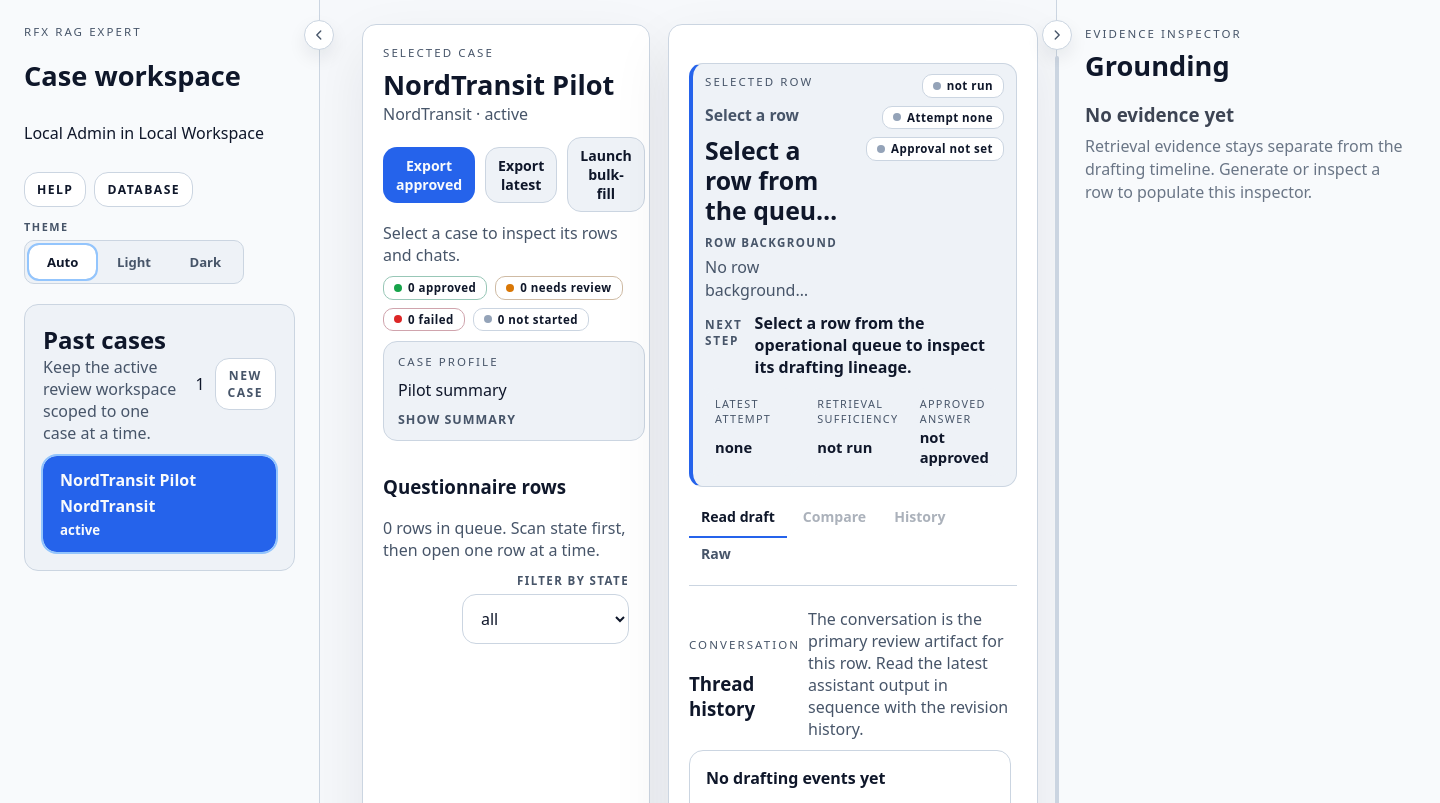
Test: App › keeps draft messaging for latest export
Click the button "Export latest". click: (521, 174)
box: [485,146,557,202]
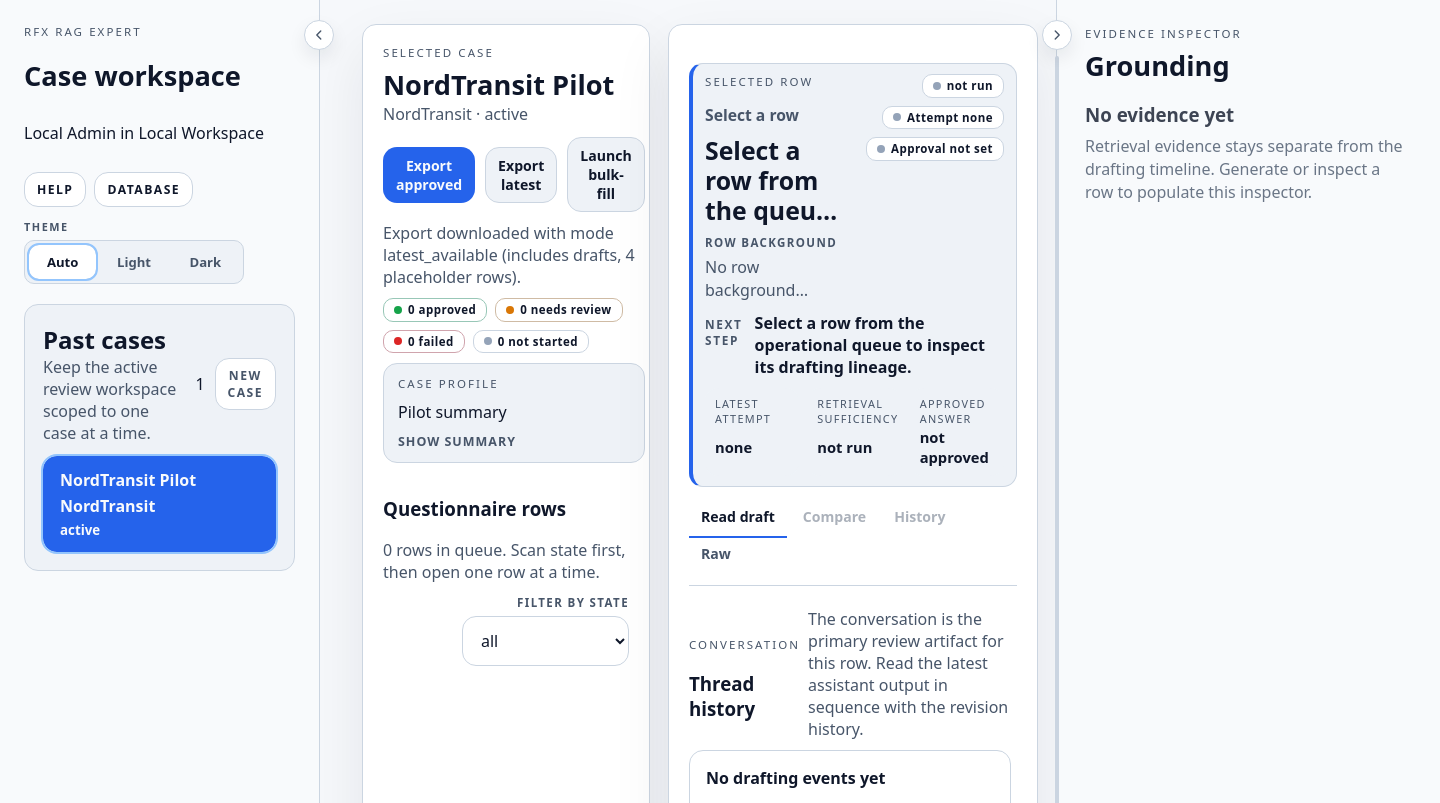
Expected: the text "Export downloaded with mode latest_available (includes drafts, 4 placeholder rows)." is shown, [383,222,635,288]
